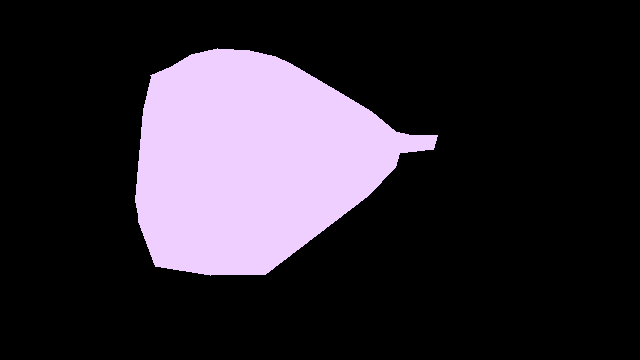Train: (135, 48, 437, 276)
